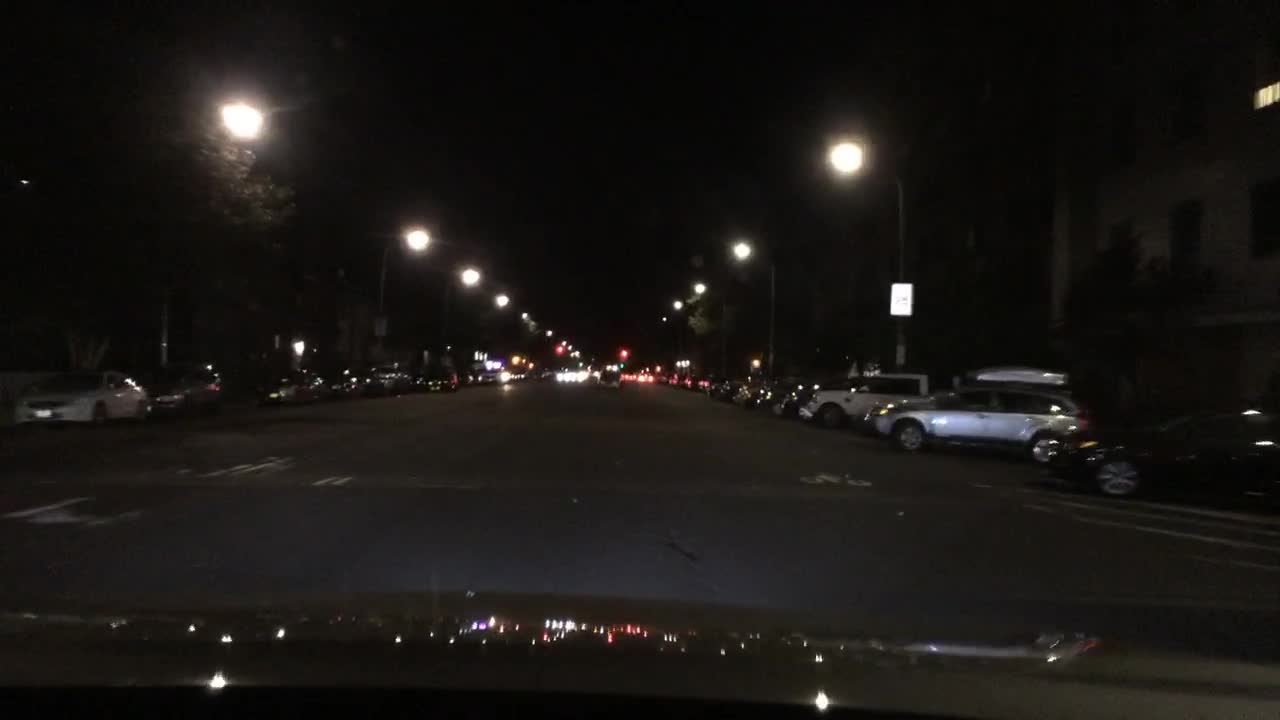car: (1041, 390, 1278, 505), (859, 381, 1098, 464), (10, 368, 155, 434), (796, 370, 926, 430), (130, 363, 226, 417), (778, 376, 870, 419), (949, 359, 1072, 391), (258, 368, 329, 404), (318, 364, 377, 399), (375, 363, 415, 394), (415, 368, 461, 394), (765, 380, 799, 409), (733, 381, 770, 405), (718, 379, 745, 399), (598, 368, 619, 389), (462, 366, 485, 384), (486, 366, 507, 384), (754, 389, 773, 408), (532, 366, 555, 379), (704, 381, 723, 396), (682, 373, 698, 389), (637, 371, 655, 384), (668, 369, 682, 385), (556, 371, 573, 384), (620, 369, 637, 381), (575, 369, 588, 383), (698, 376, 710, 391), (655, 373, 668, 384), (509, 371, 519, 380), (519, 371, 529, 379)
traffic light: (619, 348, 629, 359), (555, 344, 565, 354)
traffic sign: (890, 281, 912, 315), (373, 315, 387, 336)
